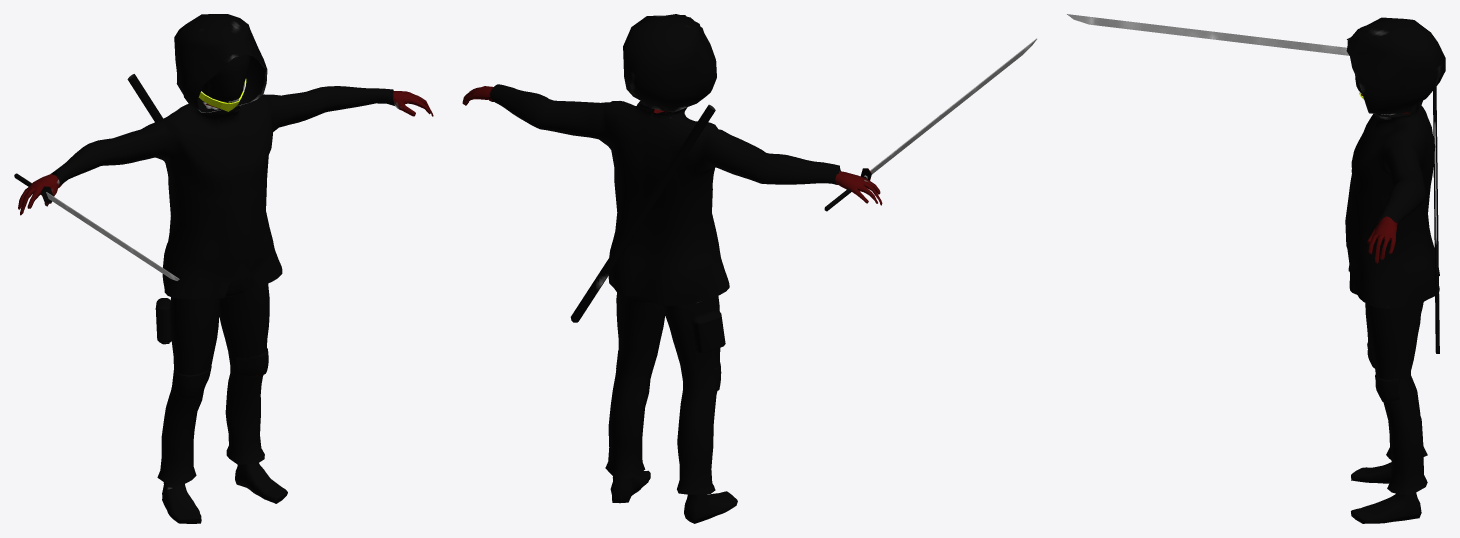
File: Player.fbx
The picture shows the model from 3 angles, left to right: view 1: azimuth 30°, elevation 25°; view 2: azimuth 150°, elevation 25°; view 3: azimuth 270°, elevation 25°; orthographic projection.
Parts seen in each view (by area): view 1: polySurface22; view 2: polySurface22; view 3: polySurface22.
Part boxes in pixels (x1=…): polySurface22: x1=14, y1=14, x2=433, y2=523; polySurface22: x1=462, y1=14, x2=1036, y2=523; polySurface22: x1=1067, y1=14, x2=1445, y2=523.
Bounding box in the file's own units: 168 × 187 × 134.
Materials: 1 (1 with a texture image).
